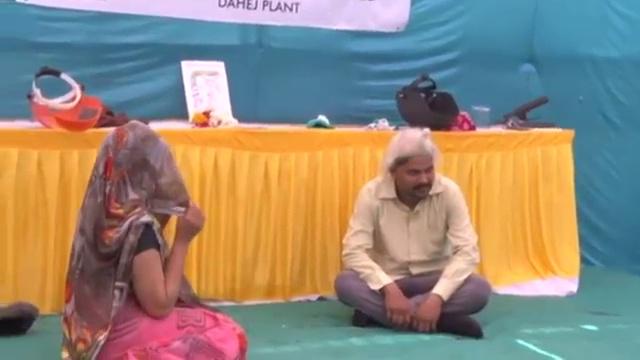helmet_off: (91, 122, 181, 214), (388, 129, 438, 200)
person: (59, 121, 250, 360), (331, 127, 493, 342)
